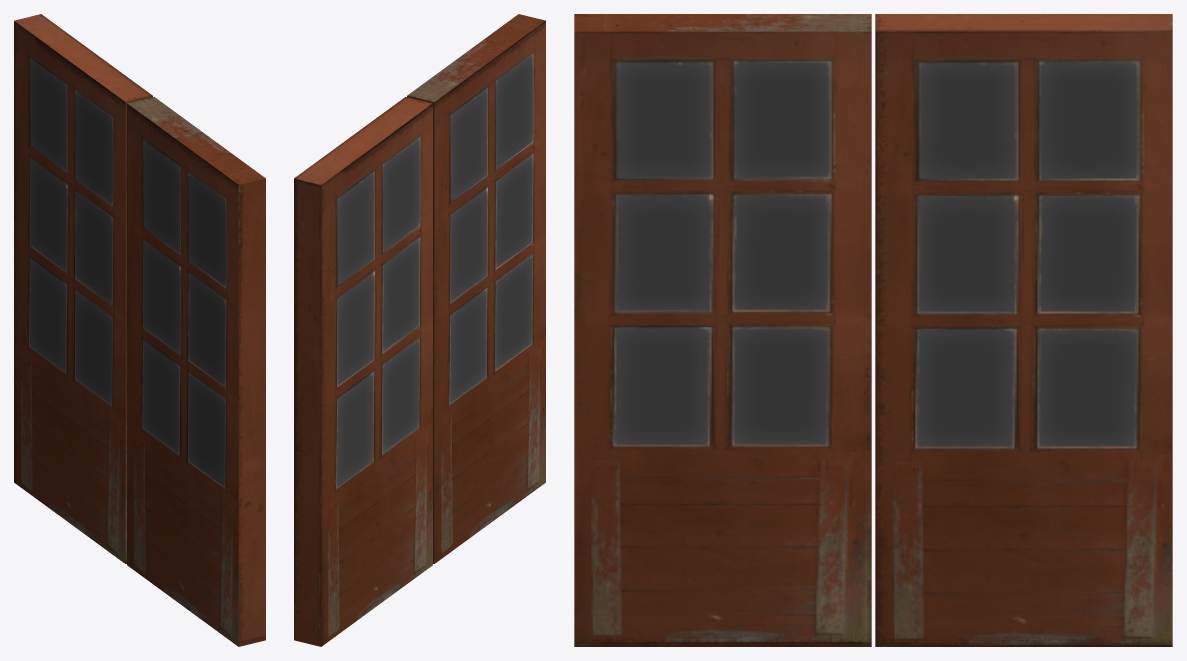
File: Room1_Sliding_door1.fbx
3 views of the same model, side by side, from view 1: azimuth 30°, elevation 25°; view 2: azimuth 150°, elevation 25°; view 3: azimuth 270°, elevation 25° (orthographic). The views are drawn at different scales.
Visible parts, largest first — view 1: Left, Right; view 2: Right, Left; view 3: Left, Right.
Boxes of the visible parts, x1=… form: Left: x1=127, y1=97, x2=265, y2=646; Right: x1=14, y1=14, x2=152, y2=563; Right: x1=294, y1=97, x2=432, y2=646; Left: x1=407, y1=14, x2=545, y2=563; Left: x1=574, y1=14, x2=871, y2=646; Right: x1=875, y1=14, x2=1172, y2=646.
Size of the model in its own units: 22.7 by 369 by 325.
